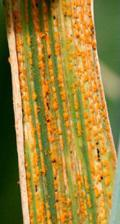Wheat: (24, 75, 101, 224), (27, 4, 91, 71)
